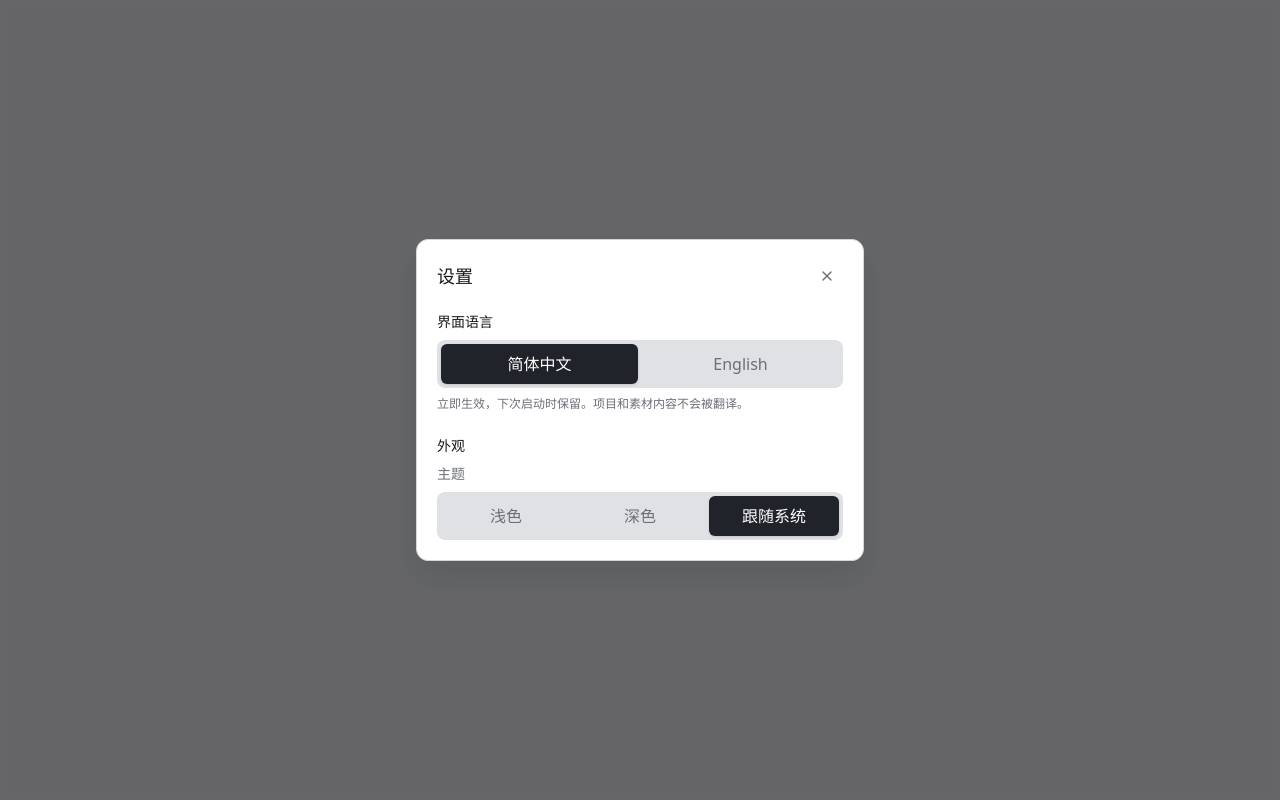
Test: SettingsPanel › reports failed persistence and lets the same language choice retry
The width and height of the screenshot is (1280, 800).
Step 1. Click the button "English" → (740, 364), box [642,344,839,384]
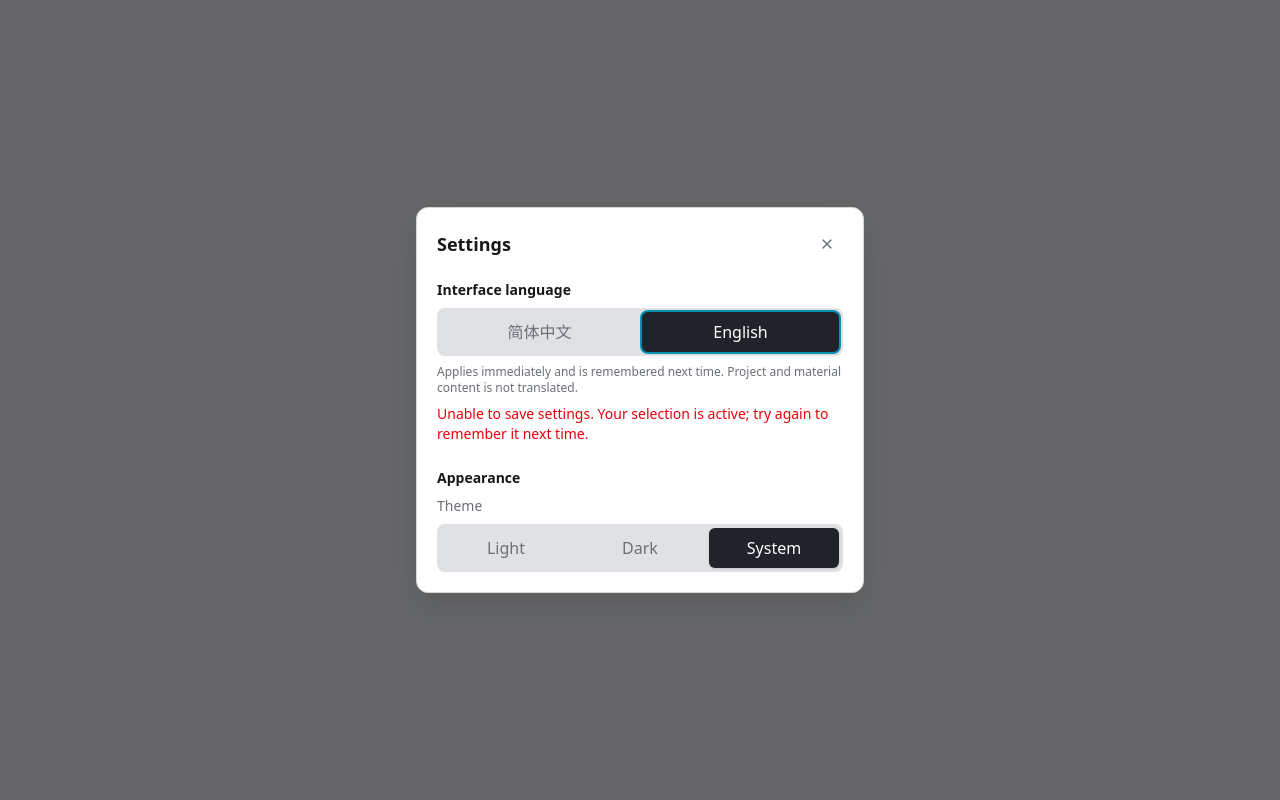
Result: the message shows "Unable to save settings" at [437,404,828,443]
Step 2. Click the button "English" → (740, 332), box [642,312,839,352]
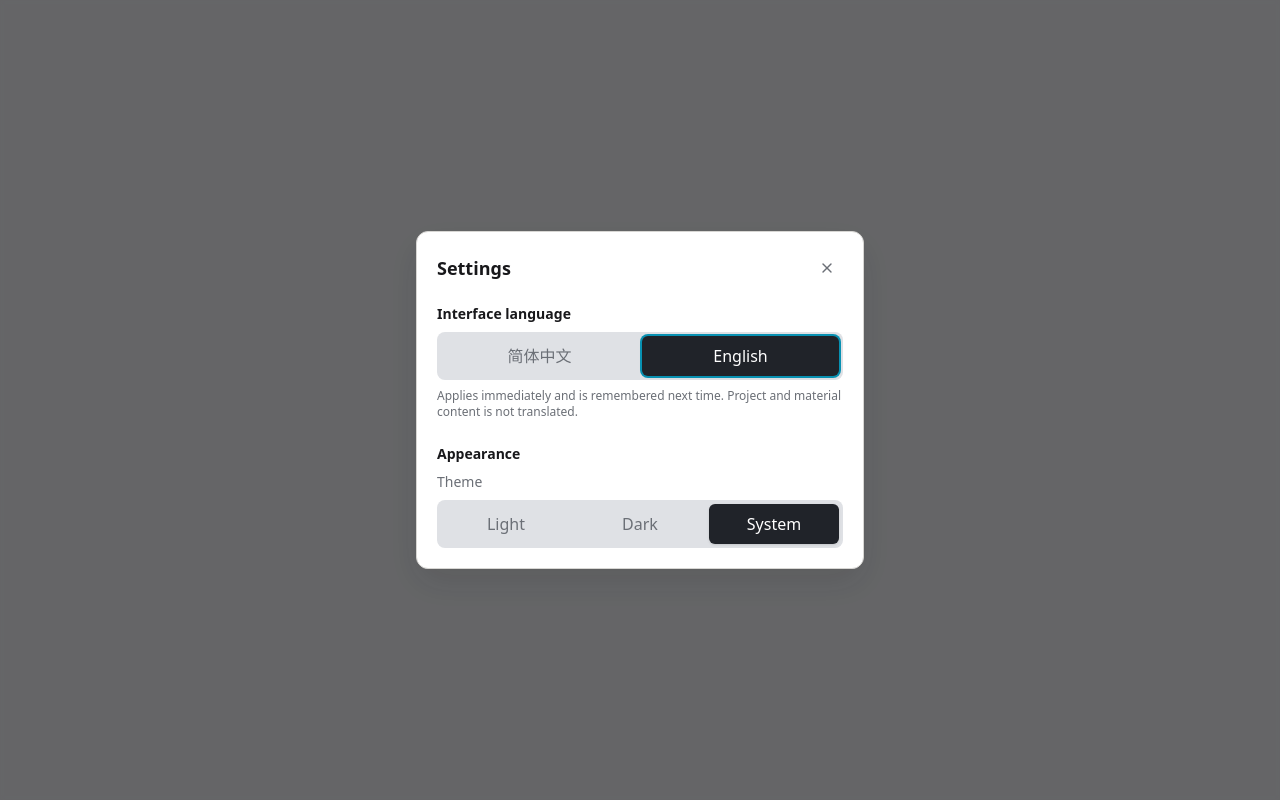
Result: the message is gone
